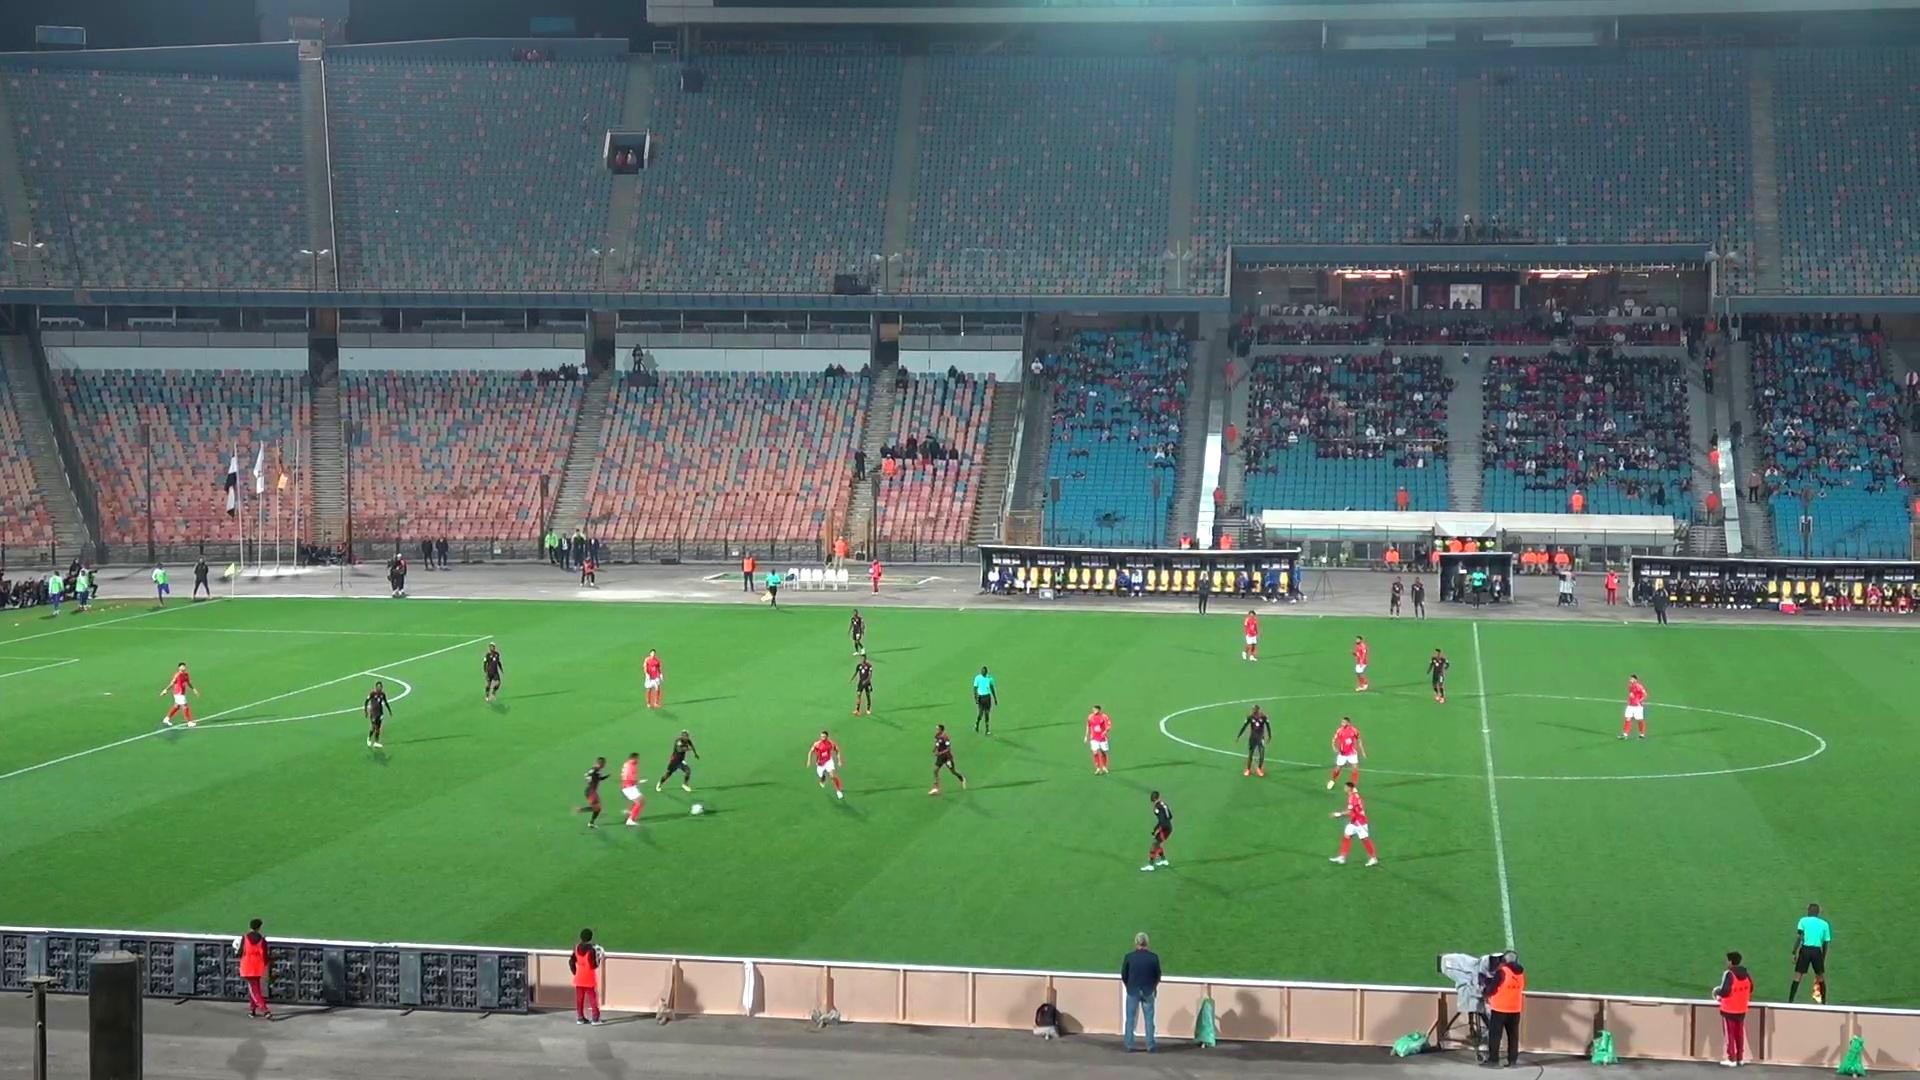Ball: (690, 796, 709, 814)
Refree: (1785, 902, 1833, 1004), (973, 666, 997, 735), (764, 568, 785, 608)
Team1: (1331, 781, 1378, 866), (1327, 716, 1364, 789), (806, 731, 844, 796), (164, 663, 195, 727), (1083, 705, 1112, 774), (1617, 675, 1647, 738), (620, 752, 644, 825), (642, 650, 663, 708), (1350, 636, 1370, 692), (1241, 611, 1259, 661)
Team2: (655, 731, 700, 793), (928, 723, 967, 794), (1141, 791, 1174, 870), (1237, 705, 1271, 775), (578, 758, 607, 828), (363, 680, 392, 749), (480, 640, 504, 703), (849, 653, 873, 715), (1427, 647, 1451, 703), (848, 609, 866, 653)
